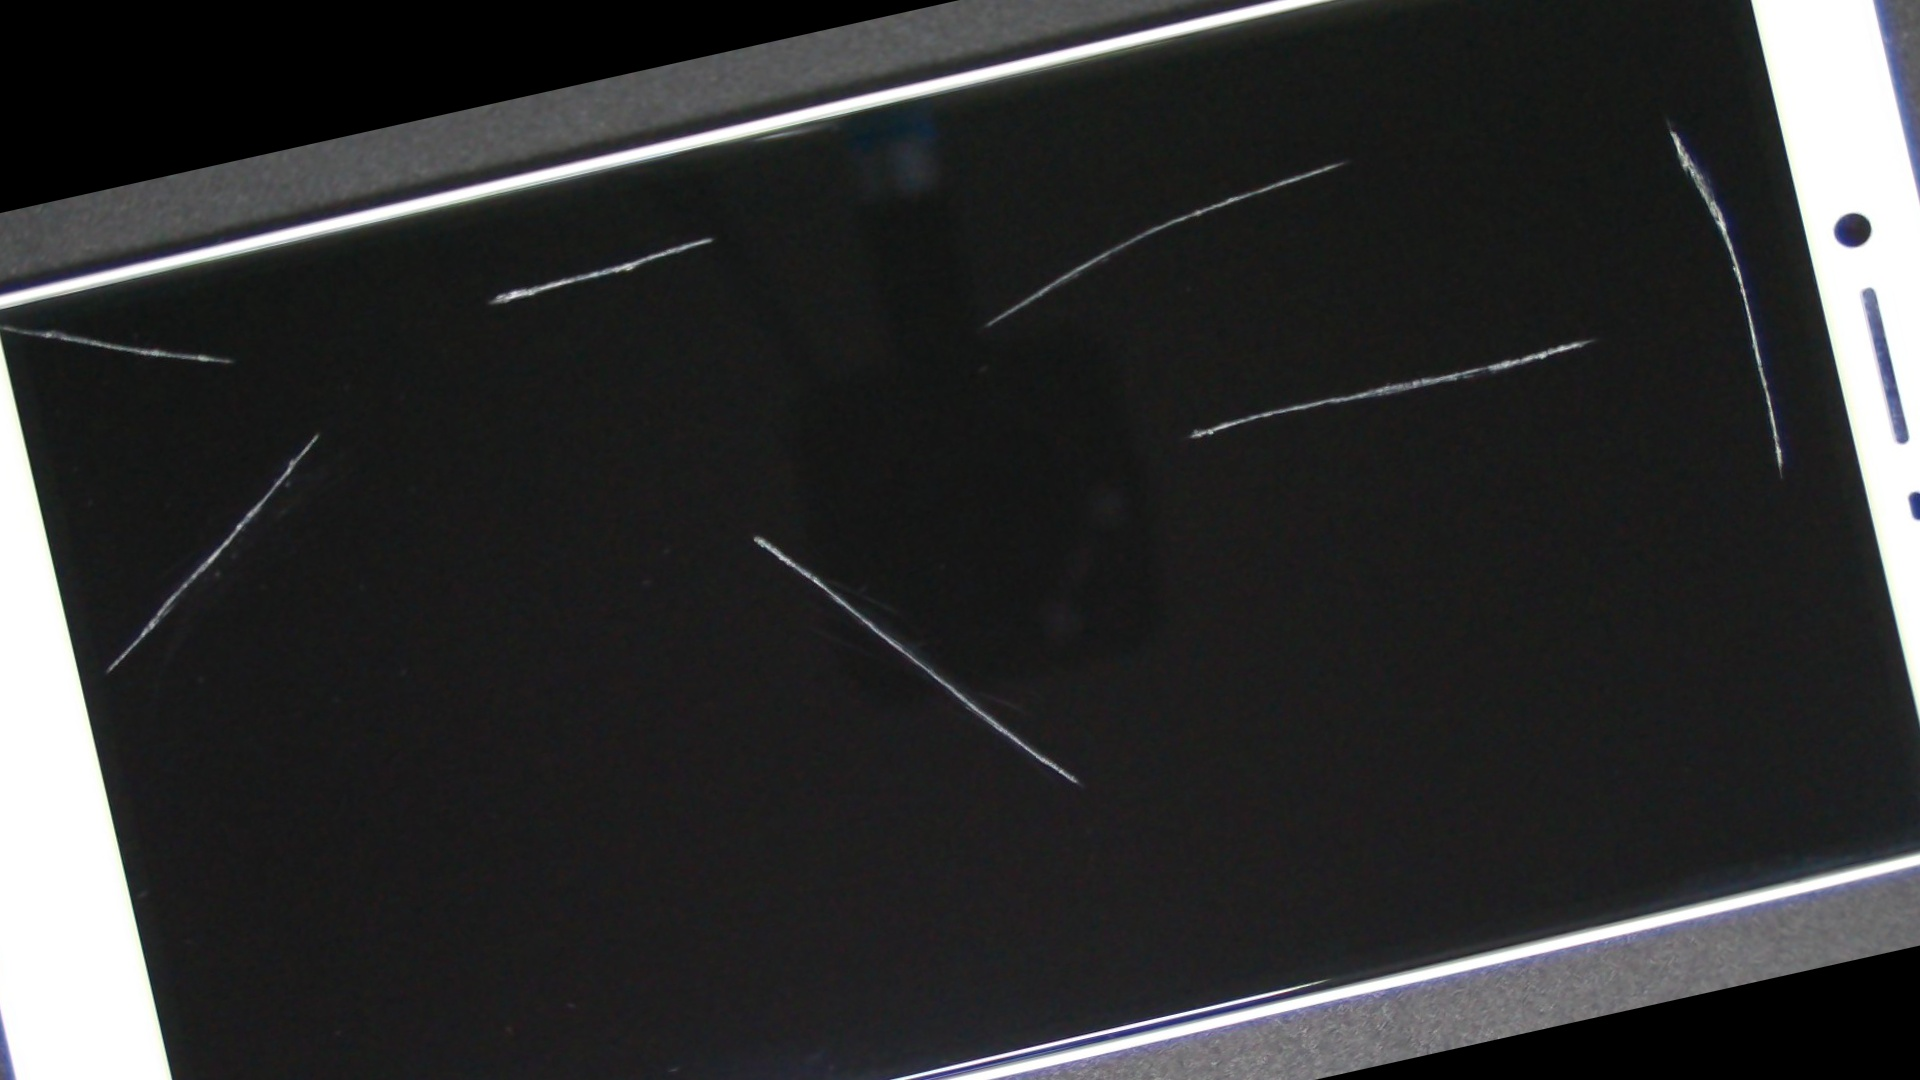oil: (682, 16, 1920, 756), (272, 207, 1232, 864), (562, 0, 1920, 444), (729, 0, 1920, 455), (249, 54, 1159, 422), (55, 243, 580, 622), (0, 251, 104, 400)
